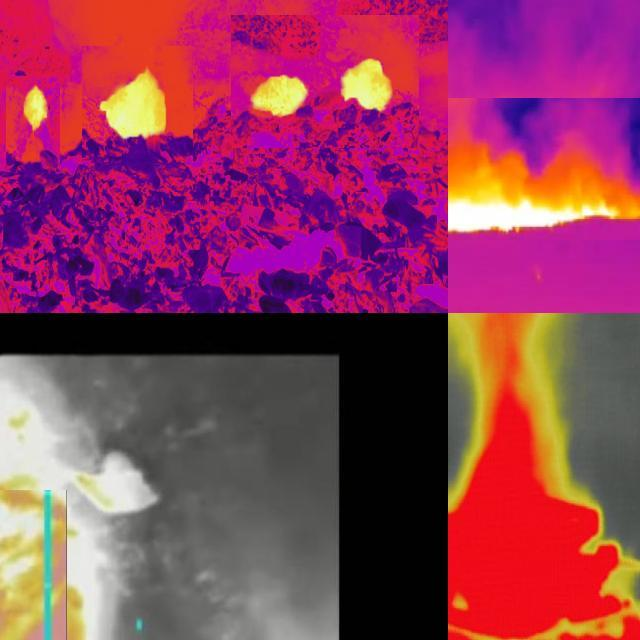fire: (449, 314, 640, 640), (452, 417, 640, 640), (1, 412, 117, 640), (449, 141, 640, 238), (102, 65, 176, 147), (341, 52, 399, 117), (252, 71, 310, 121), (20, 83, 52, 131)
